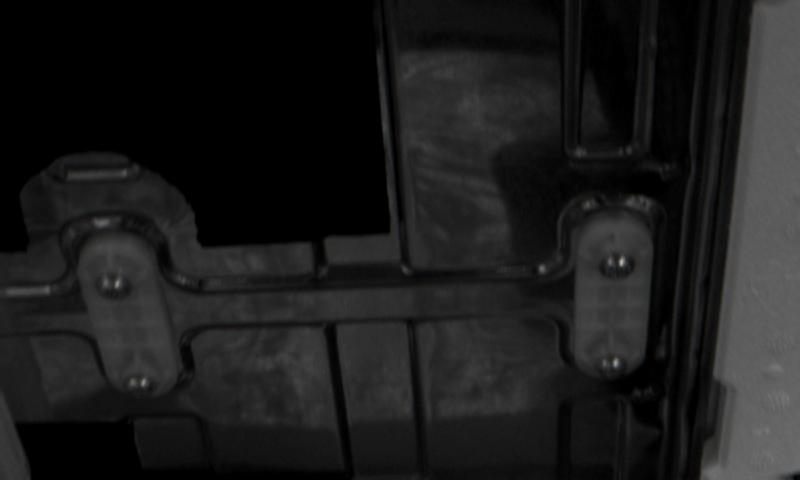vida-ok: (591, 243, 638, 287), (87, 263, 133, 307), (591, 344, 637, 383), (118, 365, 163, 404)
